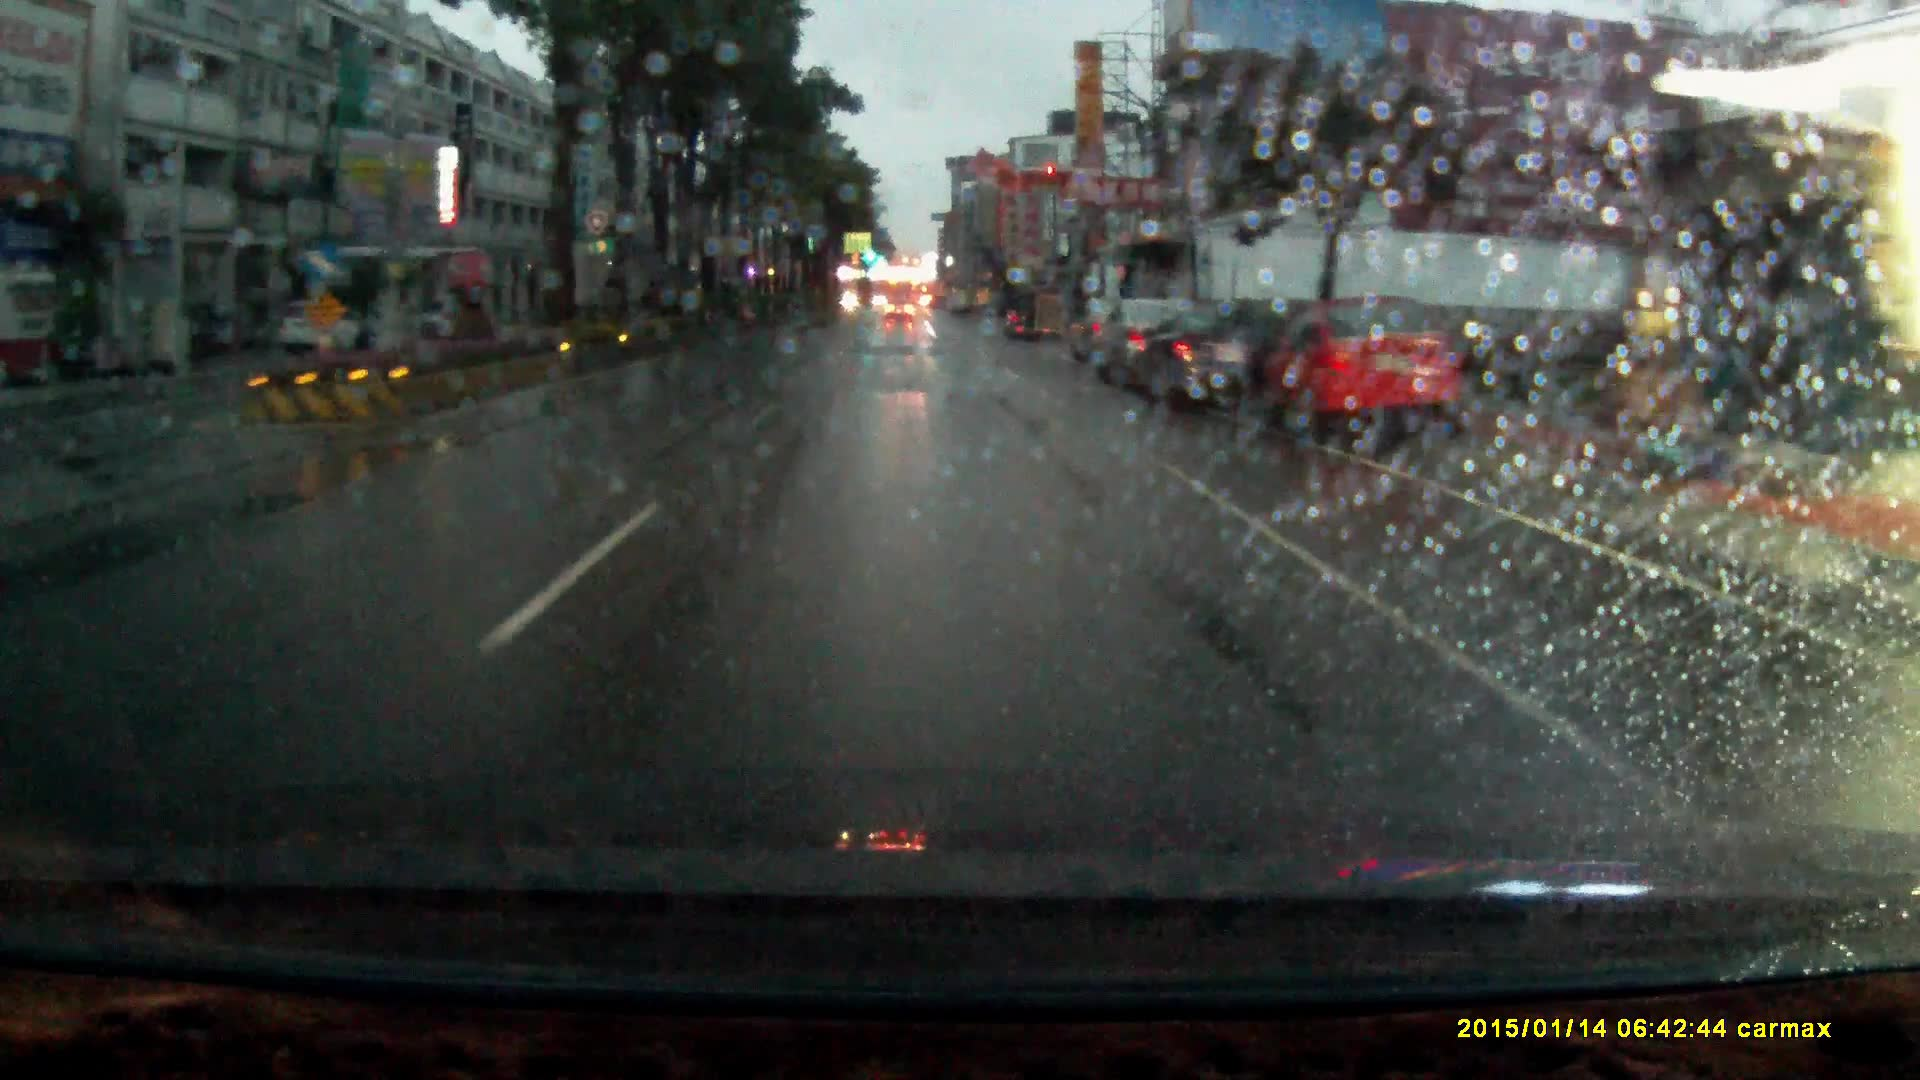vehicle: (1262, 301, 1476, 448), (1127, 301, 1284, 418), (1095, 299, 1189, 384), (404, 291, 504, 342), (280, 298, 360, 357), (1000, 291, 1060, 345), (1068, 299, 1120, 363), (885, 294, 918, 324)
